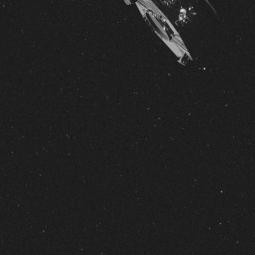lisa_pathfinder: (113, 0, 255, 77)
